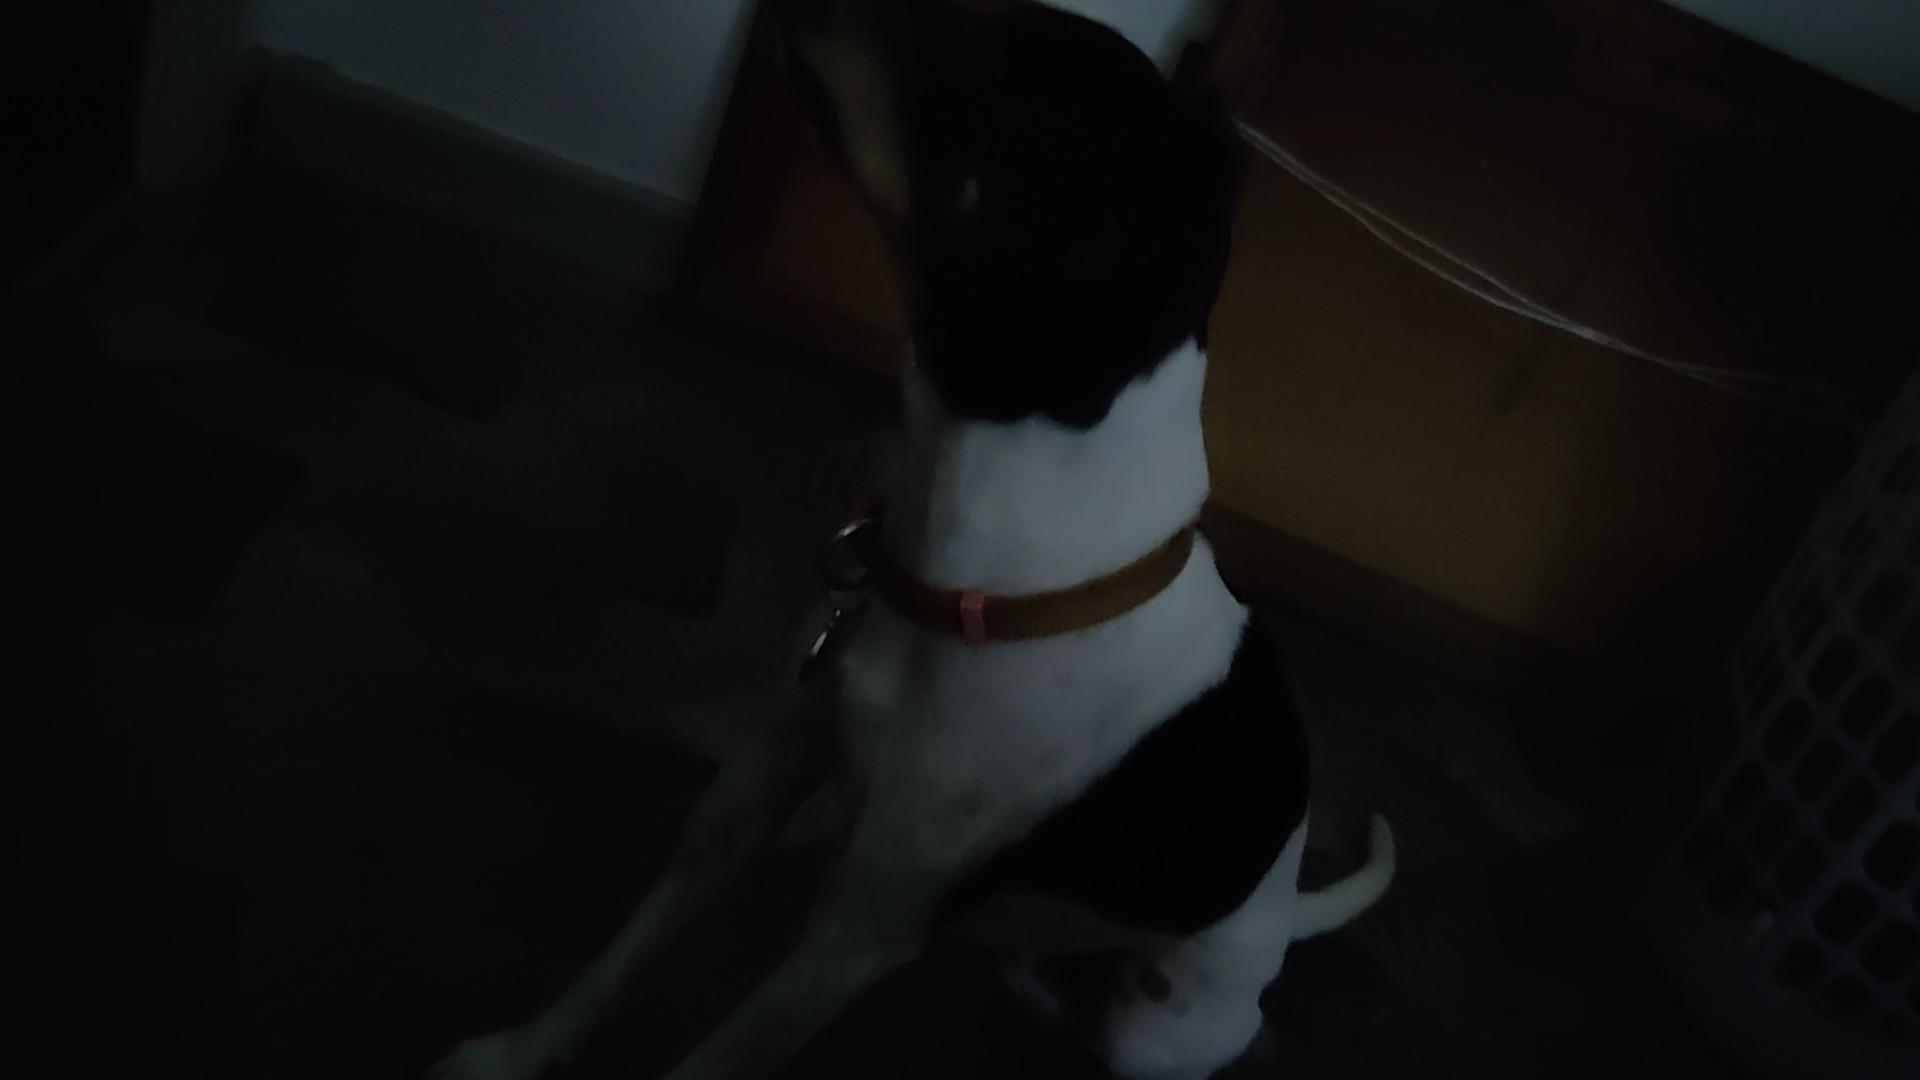Dog: (427, 0, 1406, 1080)
